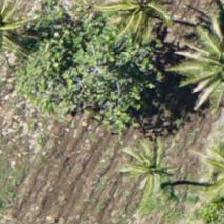coconut_tree: (96, 129, 186, 219)
